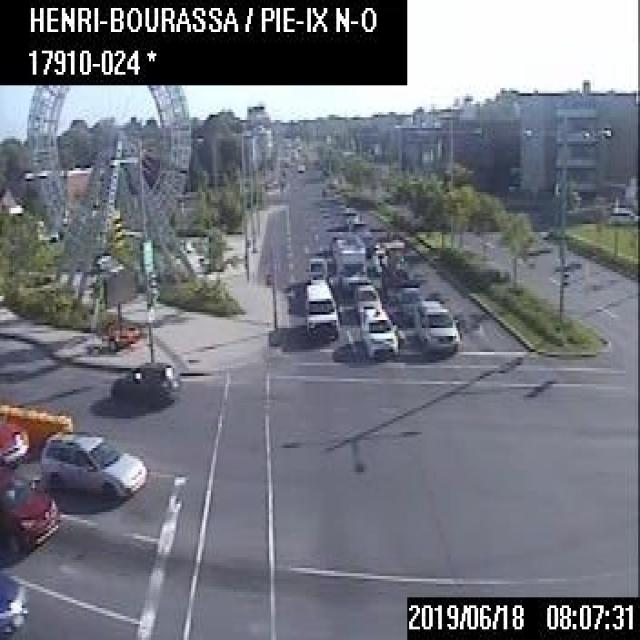vehicle: (40, 429, 145, 496), (0, 467, 58, 549), (109, 360, 176, 403), (414, 298, 458, 353), (304, 277, 338, 336), (0, 568, 29, 637), (360, 306, 398, 358), (332, 236, 366, 288), (378, 252, 408, 299), (0, 419, 27, 465), (391, 285, 422, 324), (352, 283, 380, 321), (604, 197, 638, 219), (305, 255, 326, 278), (342, 207, 360, 226), (348, 219, 366, 234), (296, 160, 304, 170)
